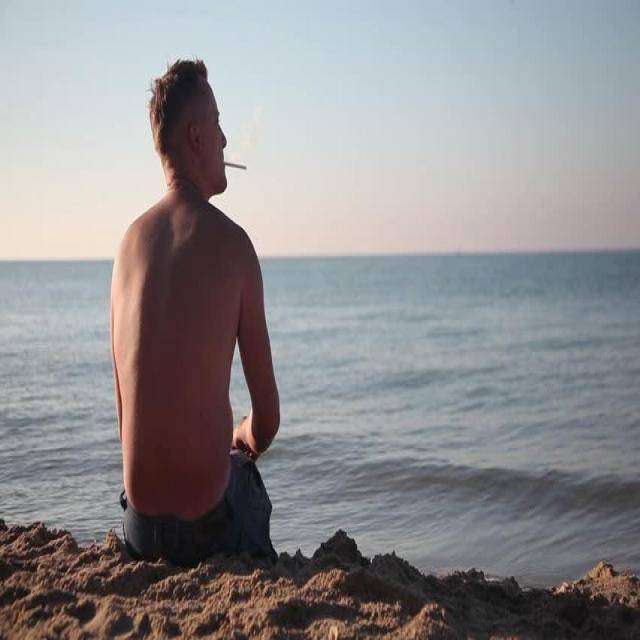Сигарета: (224, 160, 248, 172)
Тело: (108, 59, 282, 586)
